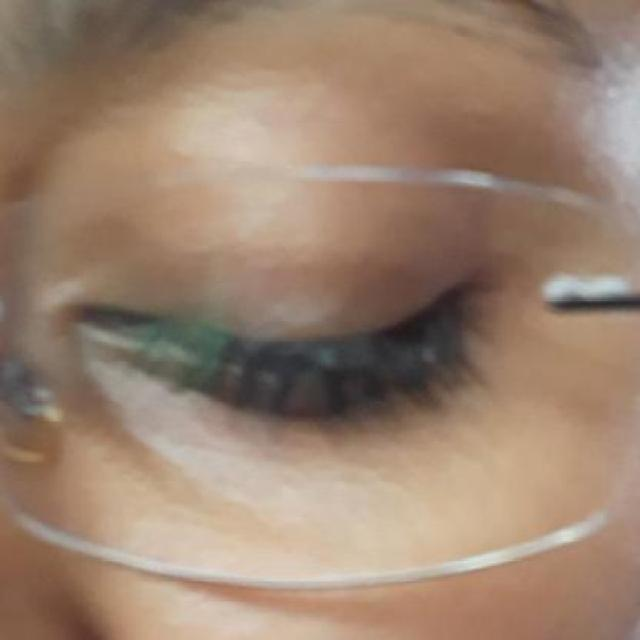drowsy: (55, 217, 478, 488)
